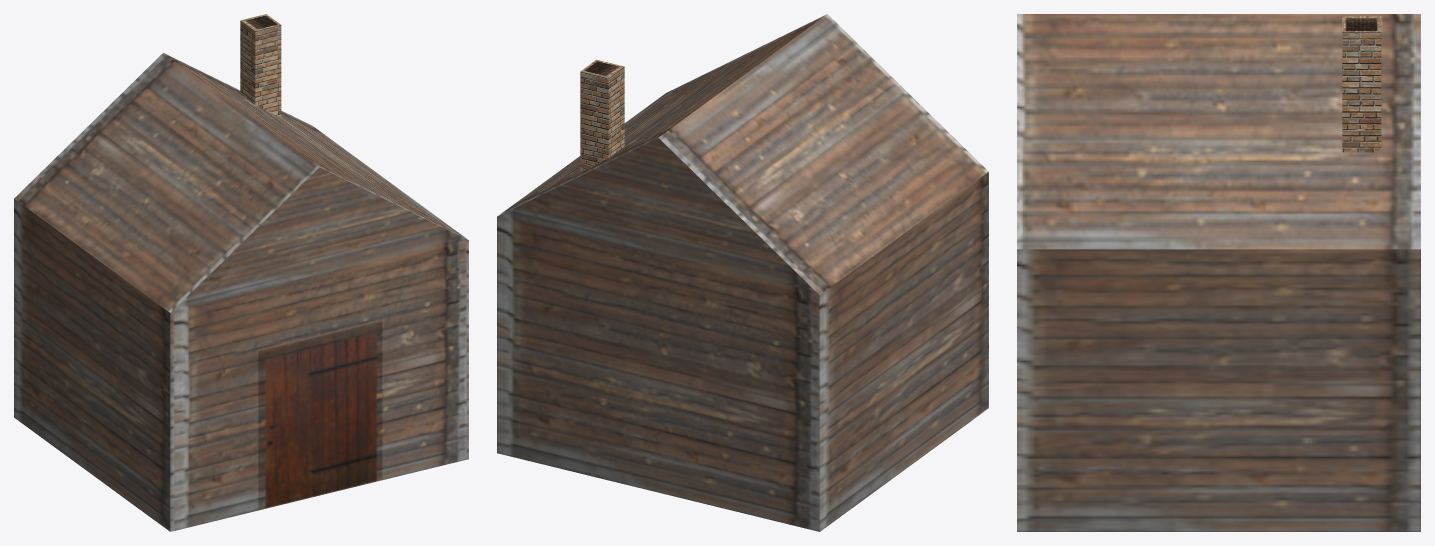
The model's file is LogCabinSmall64.FBX.
3 renders of one model, left to right at view 1: azimuth 30°, elevation 25°; view 2: azimuth 150°, elevation 25°; view 3: azimuth 270°, elevation 25°, orthographic. The views are drawn at different scales.
Parts seen in each view (by area): view 1: Cabin_Part_56, Cabin_Part_53, Cabin_Part_51, Cabin_Part_60, Cabin_Part_16, Cabin_Part_62, Cabin_Part_15, Cabin_Part_13, Cabin_Part_52, Cabin_Part_22, Cabin_Part_54, Cabin_Part_36 (+20 smaller); view 2: Cabin_Part_56, Cabin_Part_26, Cabin_Part_40, Cabin_Part_30, Cabin_Part_36, Cabin_Part_31, Cabin_Part_53, Cabin_Part_32, Cabin_Part_19, Cabin_Part_18, Cabin_Part_22, Cabin_Part_28 (+18 smaller); view 3: Cabin_Part_38, Cabin_Part_33, Cabin_Part_44, Cabin_Part_61, Cabin_Part_40, Cabin_Part_64, Cabin_Part_35, Cabin_Part_37, Cabin_Part_57, Cabin_Part_48, Cabin_Part_47, Cabin_Part_34 (+10 smaller).
Part boxes in pixels (x1,y1,x2,y2): Cabin_Part_56: (39,126,199,355); Cabin_Part_53: (207,119,366,278); Cabin_Part_51: (194,169,352,331); Cabin_Part_60: (355,219,430,384); Cabin_Part_16: (130,398,233,531); Cabin_Part_62: (371,366,468,478); Cabin_Part_15: (264,405,389,508); Cabin_Part_13: (246,282,367,403); Cabin_Part_52: (119,273,214,394); Cabin_Part_22: (64,304,126,490); Cabin_Part_54: (181,240,281,376); Cabin_Part_36: (102,53,249,129); Cabin_Part_56: (746,126,962,324); Cabin_Part_26: (553,243,729,450); Cabin_Part_40: (523,59,666,281); Cabin_Part_30: (497,303,610,471); Cabin_Part_36: (618,91,750,244); Cabin_Part_31: (574,395,729,509); Cabin_Part_53: (753,14,901,114); Cabin_Part_32: (653,201,791,295); Cabin_Part_19: (776,257,872,379); Cabin_Part_18: (747,449,898,531); Cabin_Part_22: (874,307,941,473); Cabin_Part_28: (693,288,772,461); Cabin_Part_38: (1017,28,1237,273); Cabin_Part_33: (1224,81,1392,294); Cabin_Part_44: (1275,359,1420,531); Cabin_Part_61: (1017,143,1171,318); Cabin_Part_40: (1294,16,1420,211); Cabin_Part_64: (1054,350,1192,503); Cabin_Part_35: (1171,175,1313,334); Cabin_Part_37: (1321,209,1420,376); Cabin_Part_57: (1017,297,1110,470); Cabin_Part_48: (1179,314,1277,463); Cabin_Part_47: (1137,384,1267,510); Cabin_Part_34: (1154,14,1297,83).
Size of the model in its own units: 6.7 by 7.66 by 6.08.
